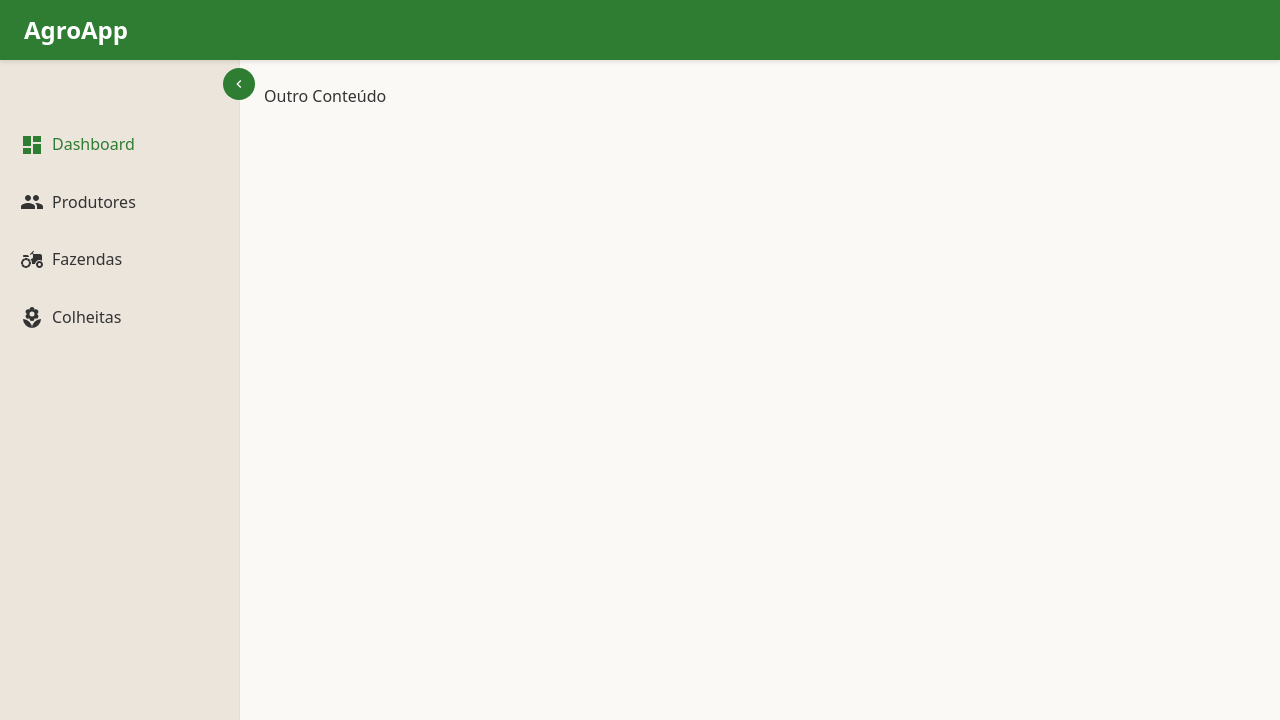
Layout › alterna aria-label do botão de toggle corretamente
Click the button named "Colapsar Sidebar" at (239,84), box [223, 68, 255, 100]
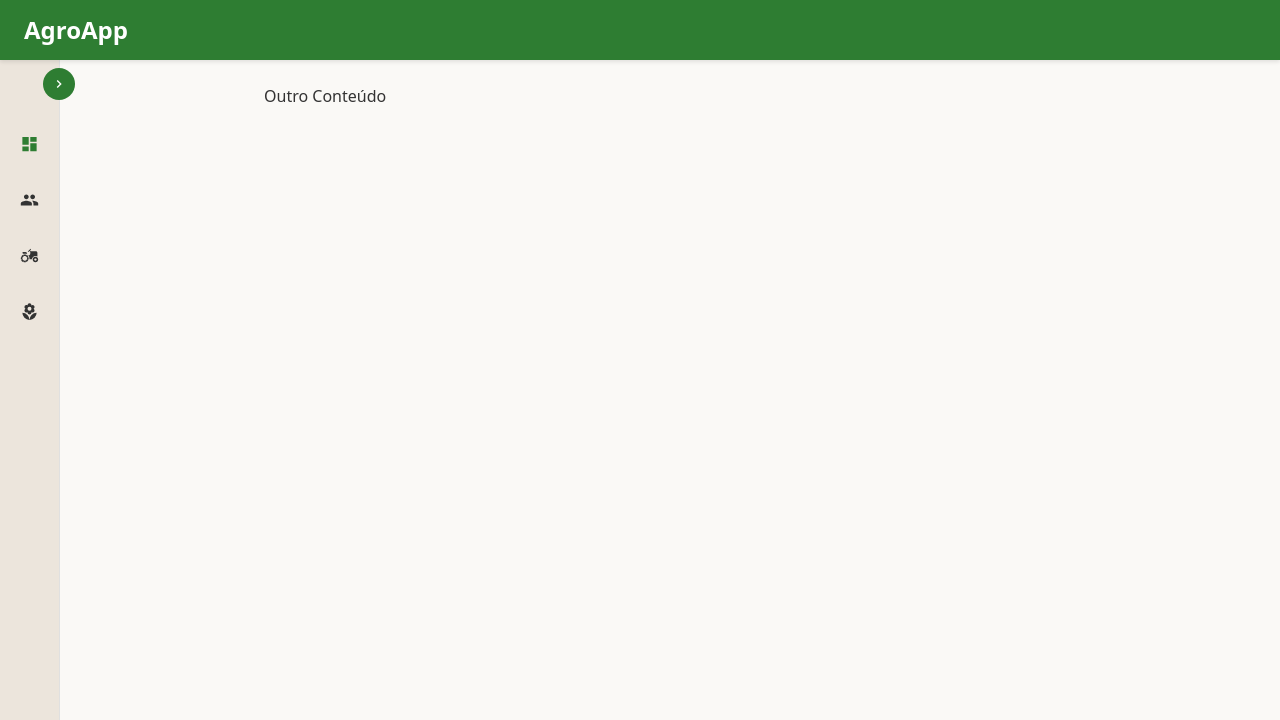
Expected: the button named "Expandir Sidebar" is shown
Click the button named "Expandir Sidebar" at (59,84), box [43, 68, 75, 100]
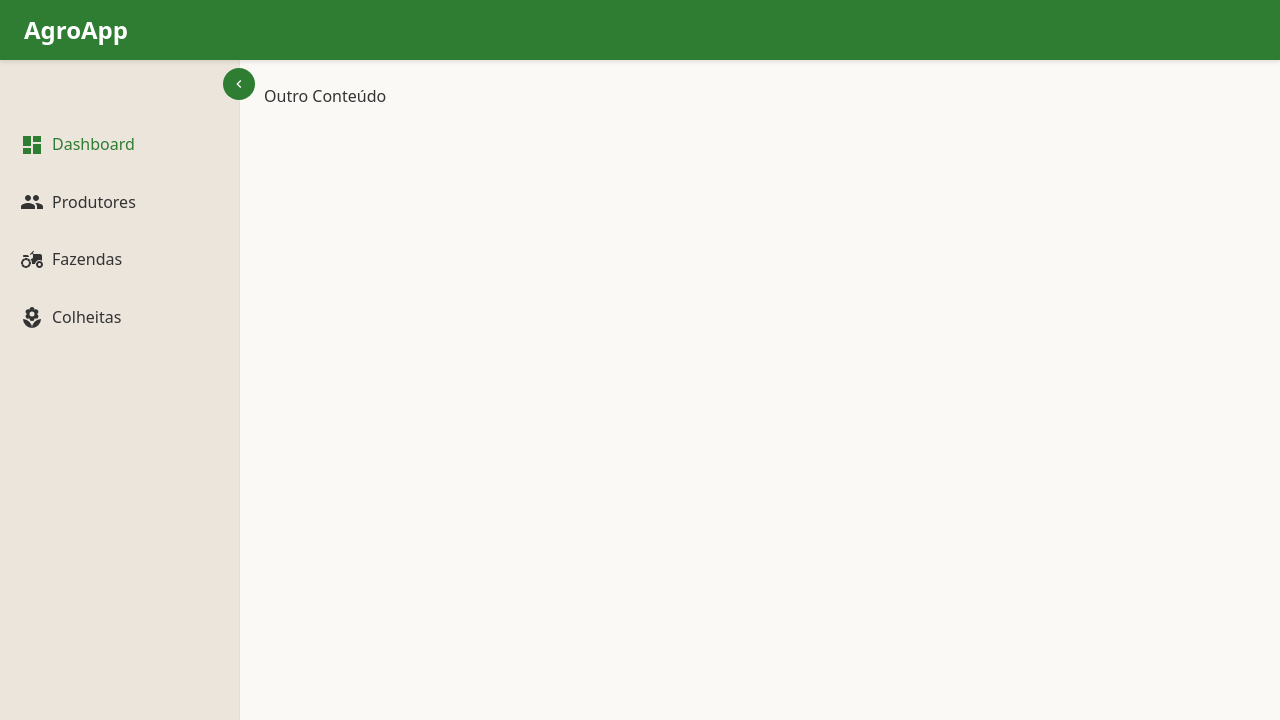
Expected: the button named "Colapsar Sidebar" is shown, [223, 68, 255, 100]
